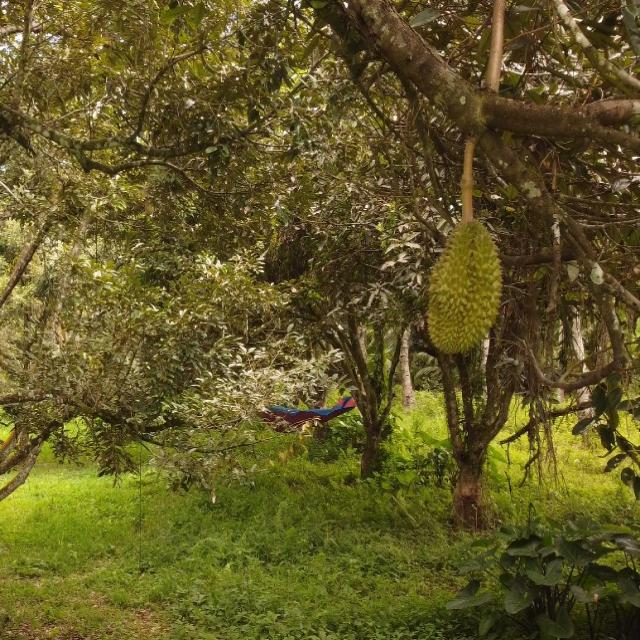immature: (421, 215, 506, 350)
